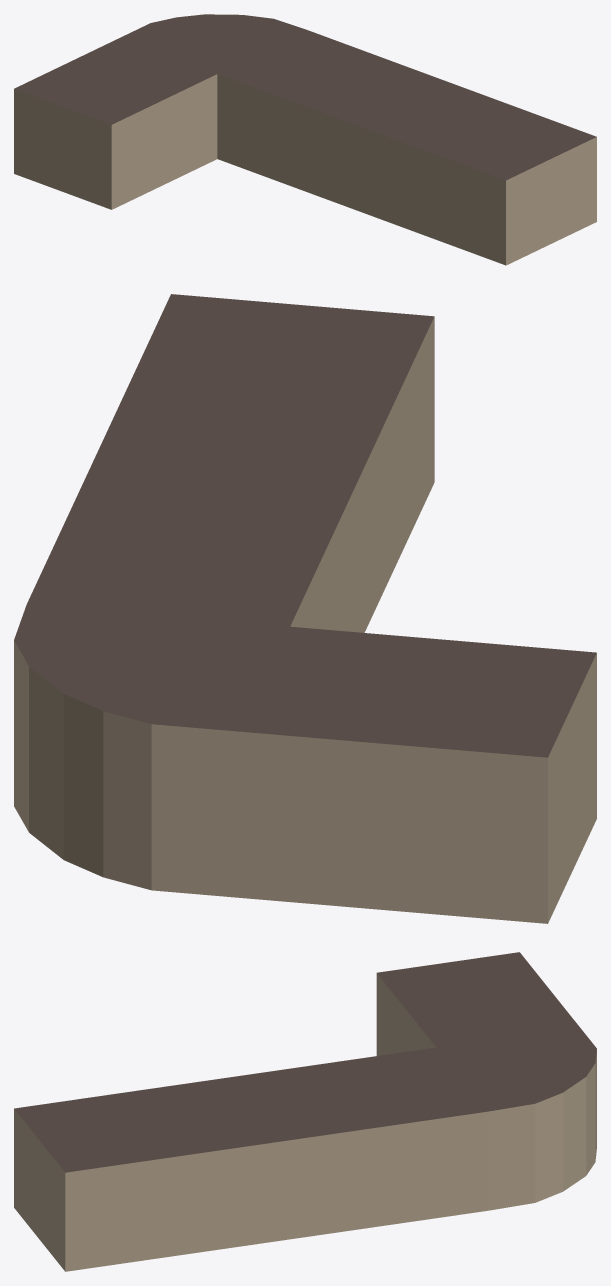
The picture shows the model from 3 angles, top to bottom: view 1: azimuth 30°, elevation 25°; view 2: azimuth 150°, elevation 25°; view 3: azimuth 270°, elevation 25°; orthographic projection. The views are drawn at different scales.
Parts seen in each view (by area): view 1: HP-w859078913; view 2: HP-w859078913; view 3: HP-w859078913.
Boxes of the visible parts, x1=… form: HP-w859078913: x1=14, y1=14, x2=596, y2=265; HP-w859078913: x1=14, y1=294, x2=596, y2=923; HP-w859078913: x1=14, y1=952, x2=596, y2=1271.
Size of the model in its own units: 42.94 by 9 by 47.95.
